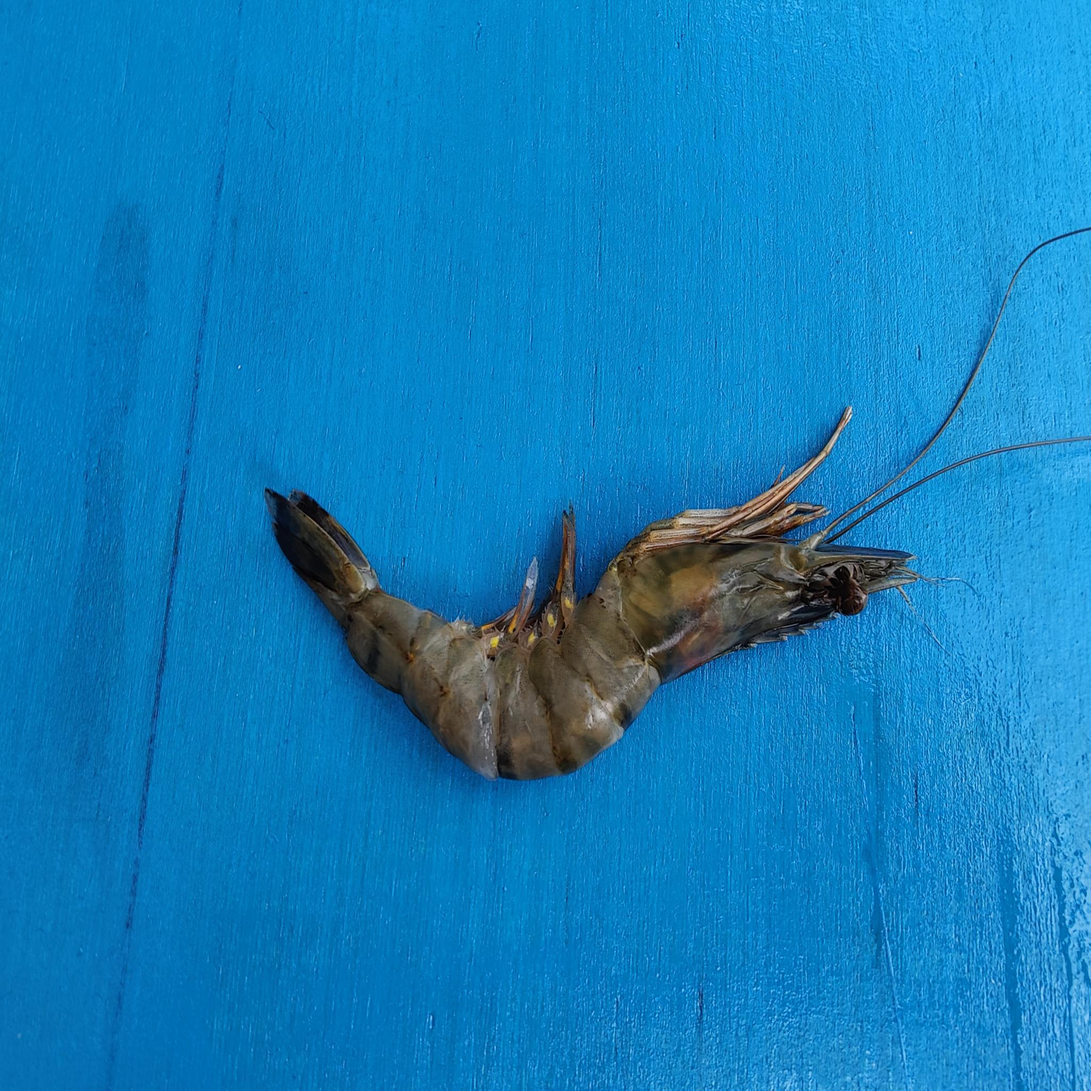blackgill: (318, 475, 459, 551), (380, 406, 455, 484)
